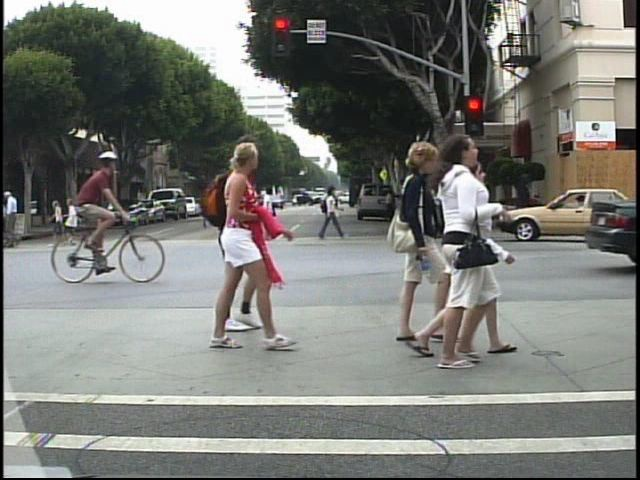person: (423, 136, 517, 376), (176, 141, 281, 349), (427, 159, 521, 361), (217, 146, 270, 342), (391, 138, 435, 347), (62, 147, 126, 276), (313, 183, 347, 245), (420, 177, 449, 239), (7, 187, 26, 252), (382, 187, 397, 223)
